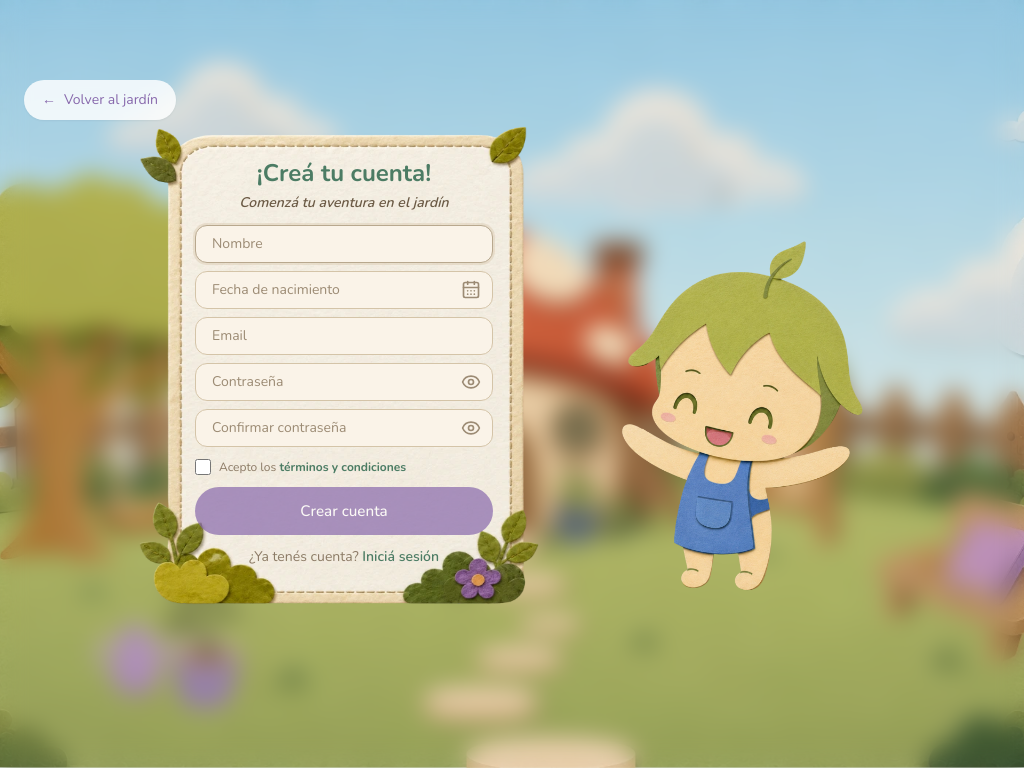
Test: Register › muestra error del backend cuando falla el registro
Type "mili" into the field with placeholder "Nombre" at [344, 244], box [195,225,493,263]
Type "mili@mail.com" into the field with placeholder "Email" at [344, 336], box [195,317,493,355]
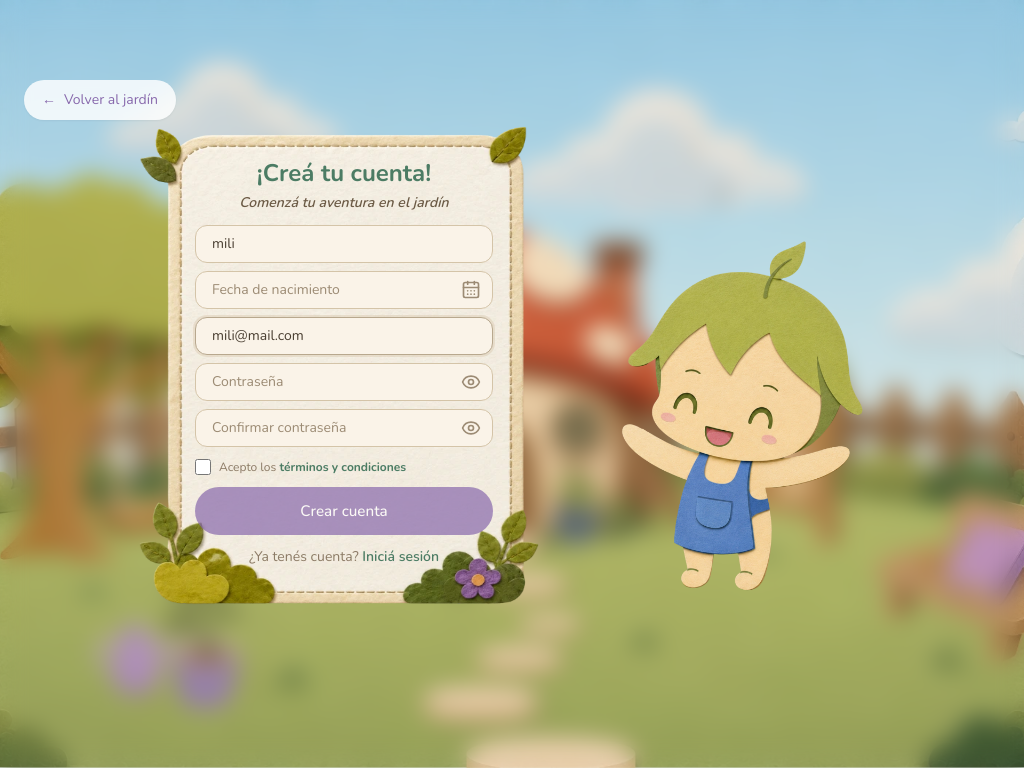
Type "123456" into the password field with placeholder "Contraseña" at [344, 382], box [195,363,493,401]
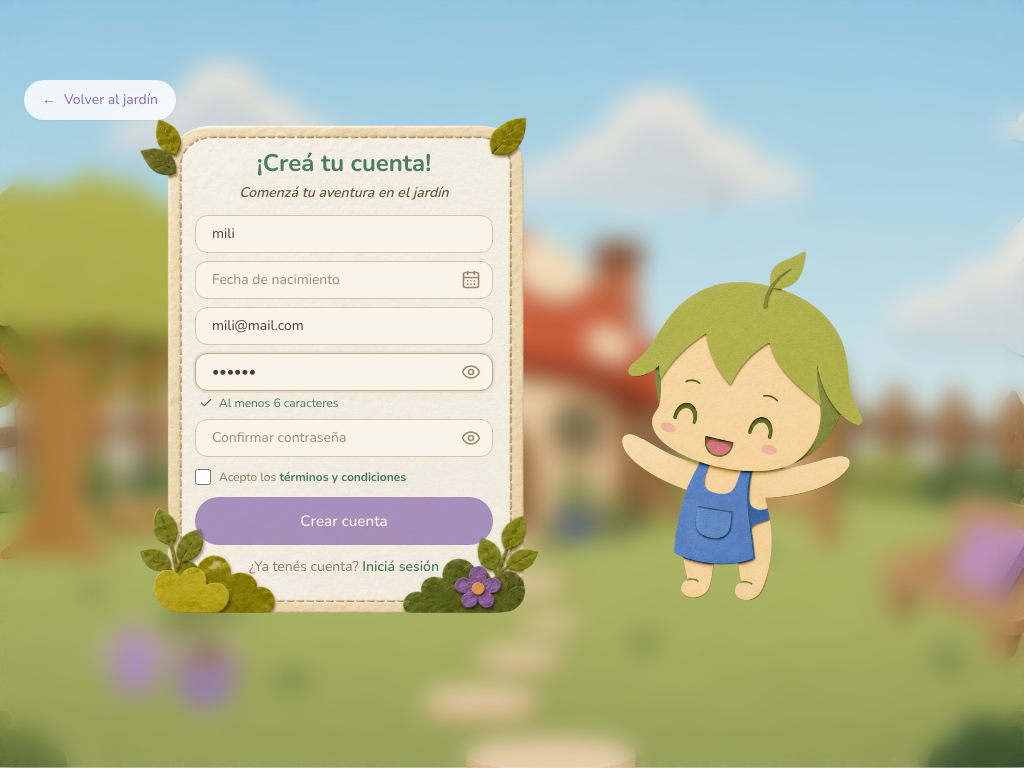
Type "123456" into the password field with placeholder "Confirmar contraseña" at [344, 438], box [195,419,493,457]
Click the field with placeholder "Fecha de nacimiento" at [344, 280], box [195,261,493,299]
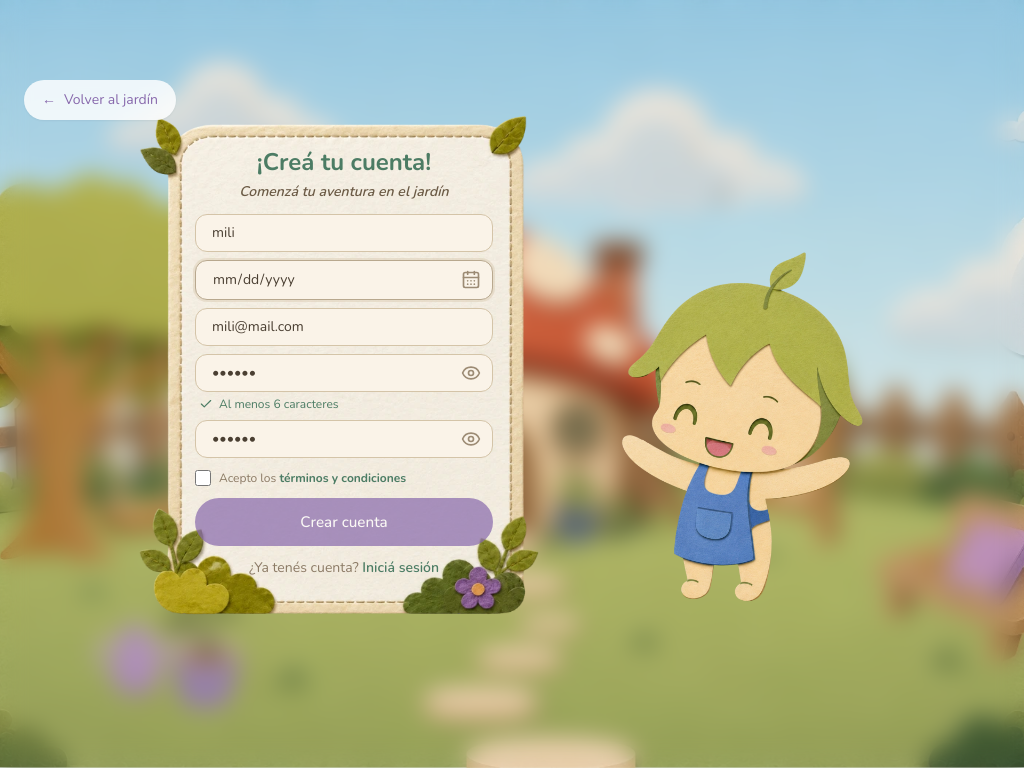
Type "2000-01-15" into the date field with placeholder "Fecha de nacimiento" at [344, 280], box [195,260,493,300]
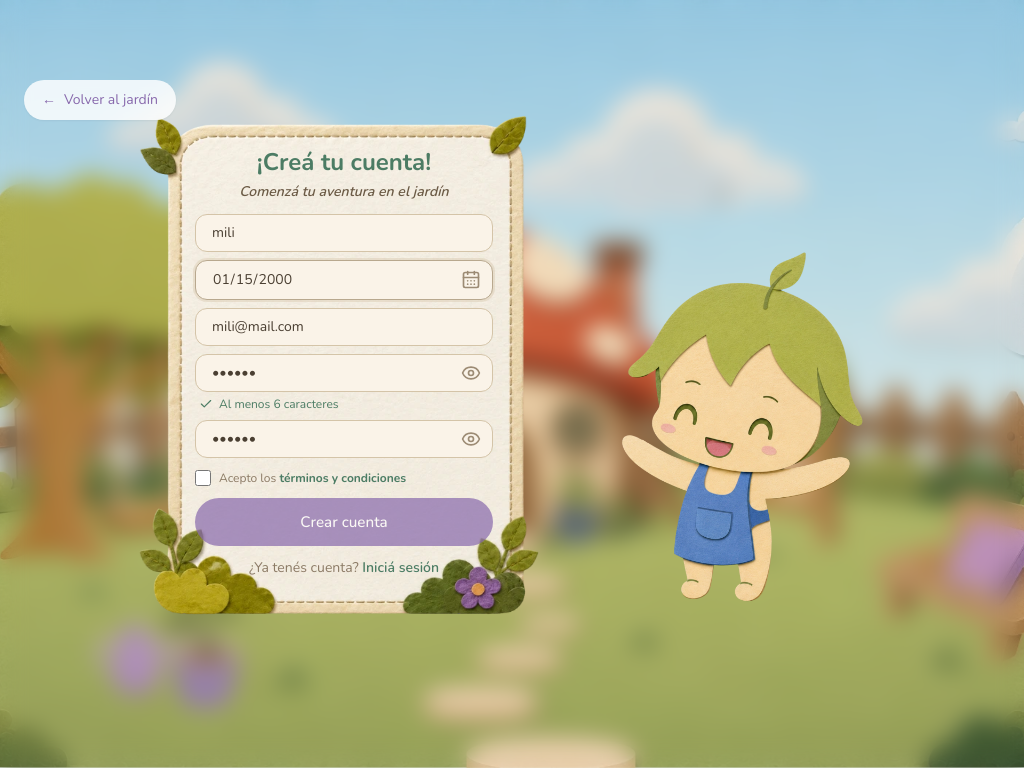
Click the checkbox at [203, 478], box [195,470,211,486]
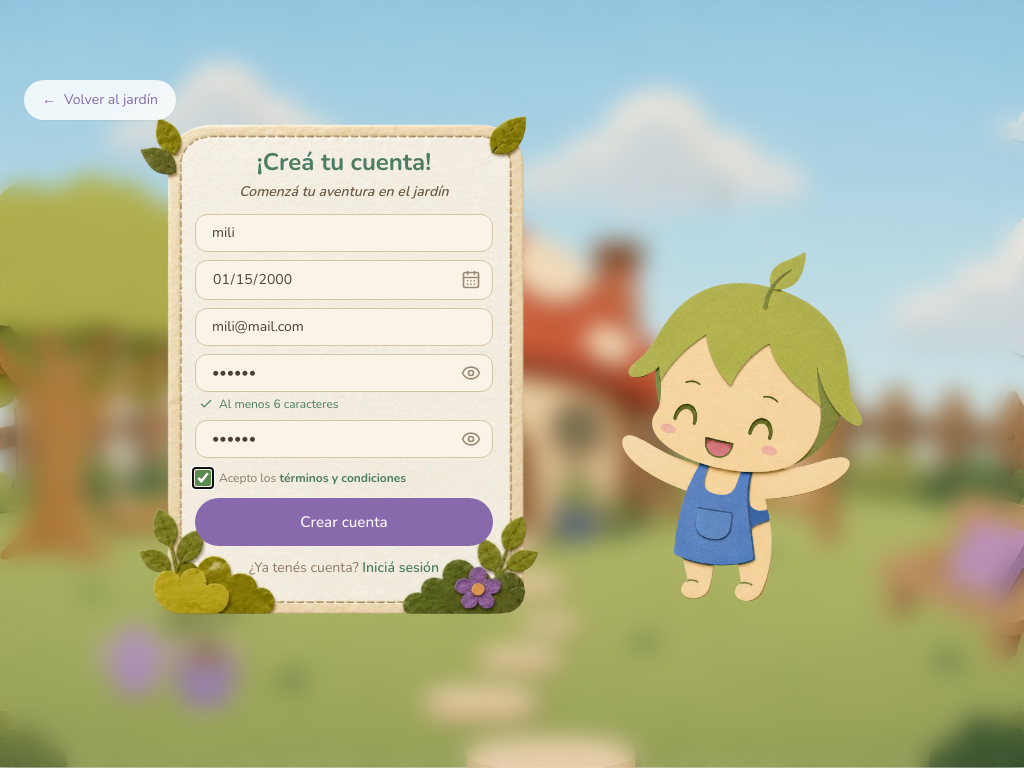
Click the button "Crear cuenta" at [344, 522], box [195,498,493,546]
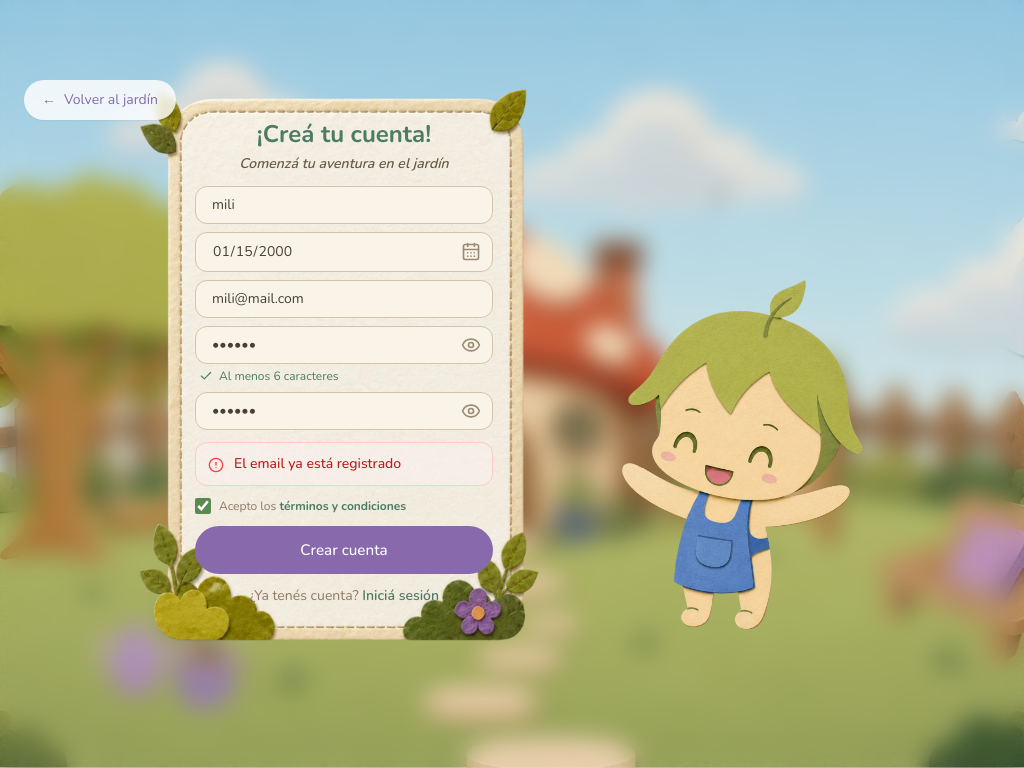
expect the text "El email ya está registrado" is shown: met, box [234,455,401,473]
